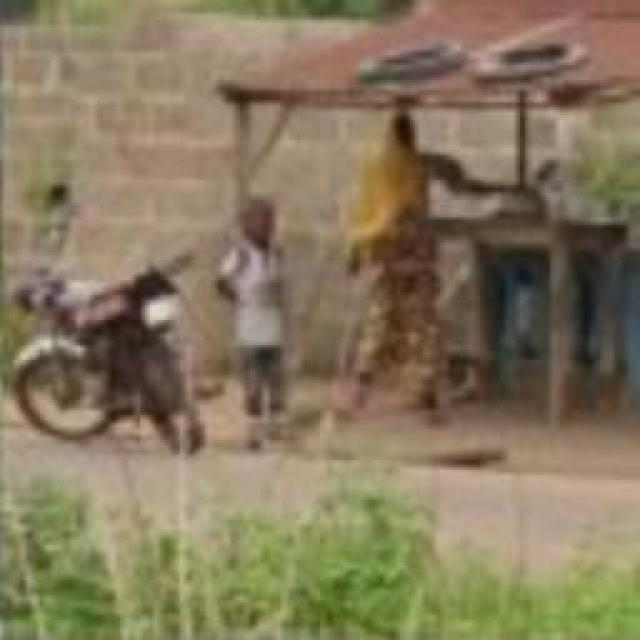motorbike: (13, 228, 204, 464)
